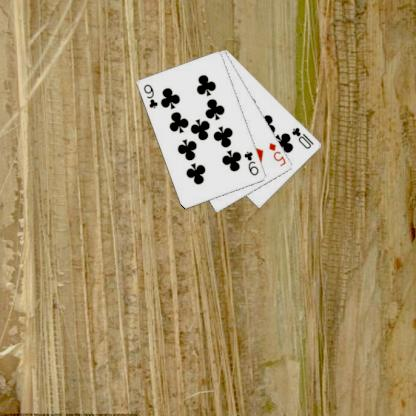10C: (290, 124, 316, 150)
5D: (266, 140, 288, 168)
9C: (242, 149, 260, 177), (142, 82, 160, 110)
